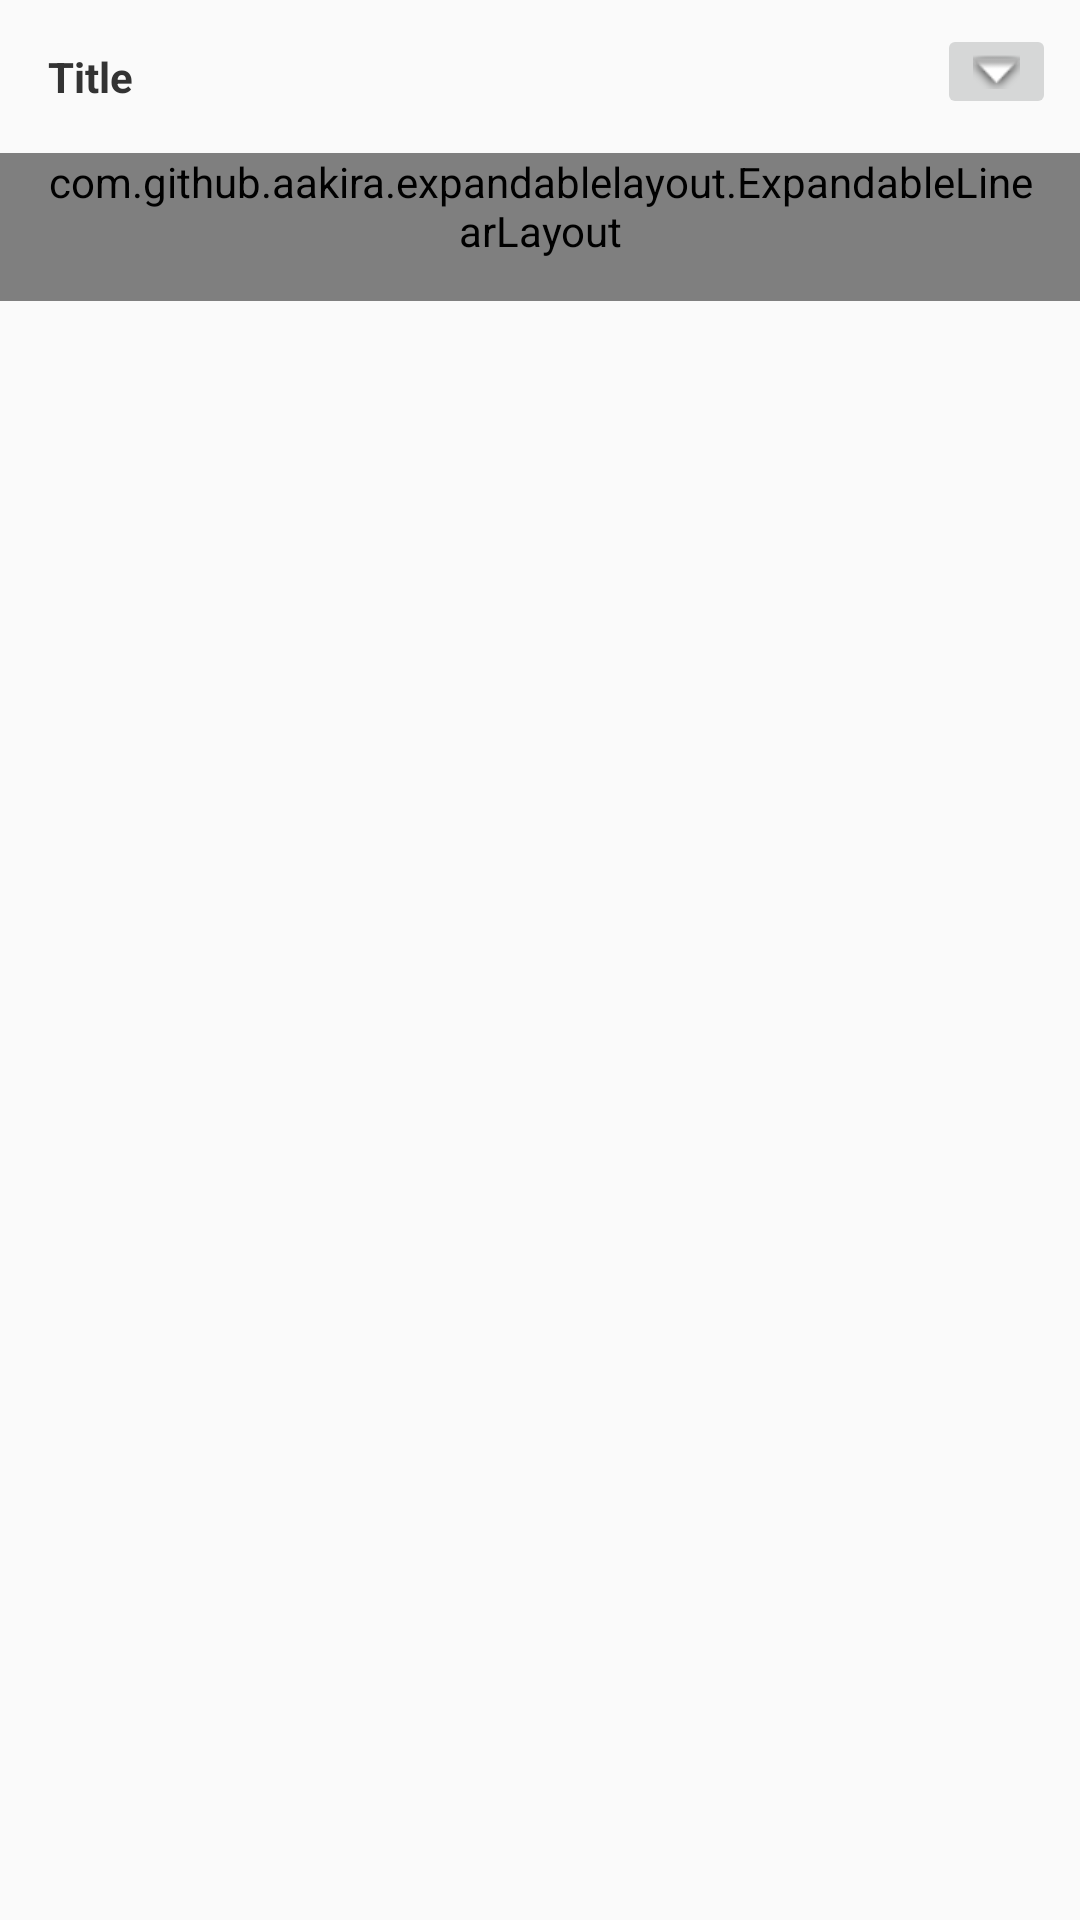

Screen size 1080px x 1920px. Icon name, then its center in pixels as [x,y]:
arrow down float: [996,71]
